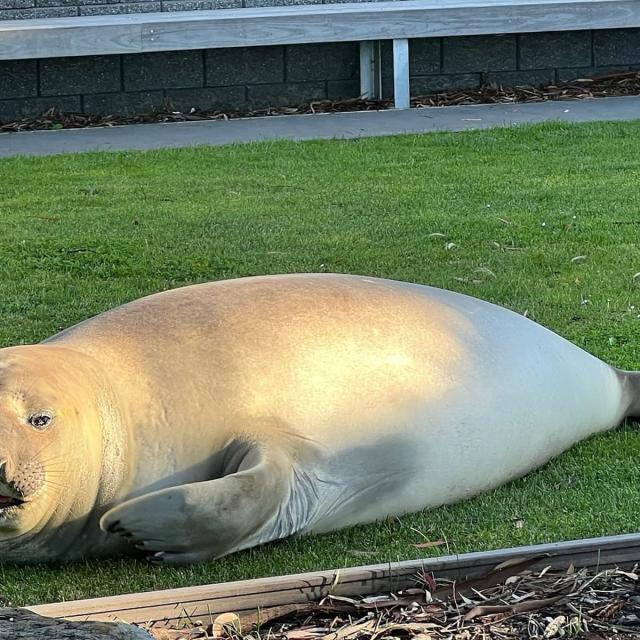WaterDog: (0, 268, 640, 558)
